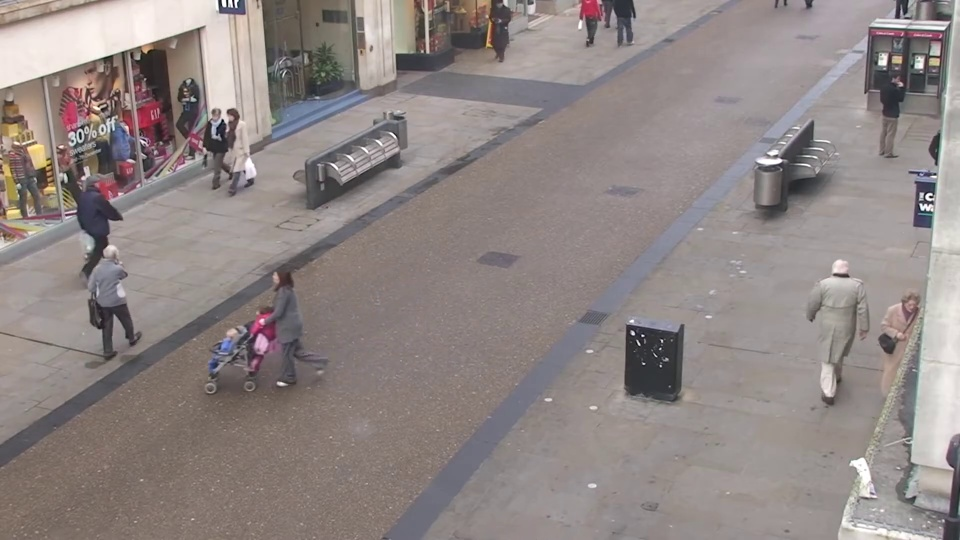pedestrian: (872, 288, 931, 432), (191, 317, 249, 463), (243, 261, 294, 393), (96, 237, 150, 361), (813, 246, 863, 377), (87, 162, 134, 267), (193, 104, 230, 195), (870, 68, 909, 154), (211, 108, 247, 199)
